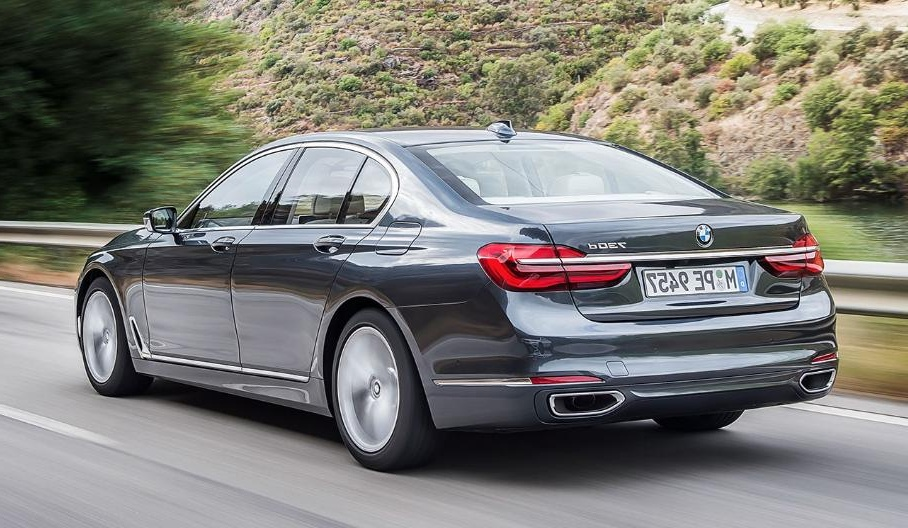car: (59, 105, 843, 467)
